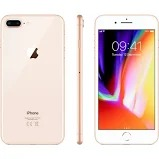iphone: (93, 10, 159, 145), (1, 12, 65, 147)
iphone8: (93, 12, 159, 147), (1, 11, 66, 148)
